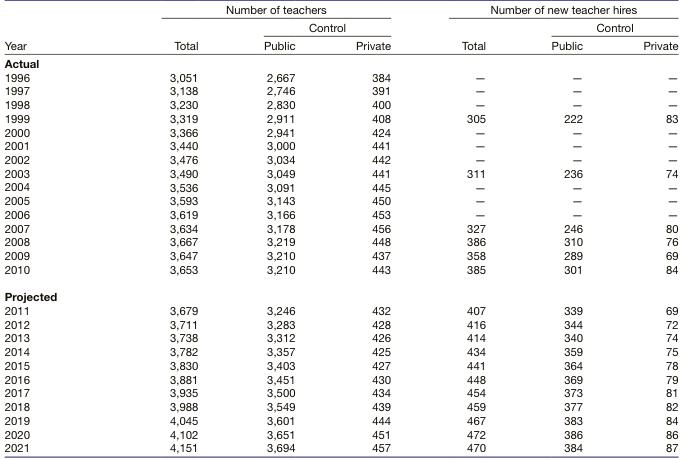table: (3, 3, 677, 453)
table column: (98, 3, 230, 453), (324, 3, 425, 453), (3, 3, 98, 453), (517, 3, 612, 453), (230, 3, 324, 453), (425, 3, 517, 453), (612, 3, 677, 453)
table column header: (3, 3, 677, 54)
table projected row header: (3, 283, 677, 303), (3, 54, 677, 70)
table row: (3, 262, 677, 283), (3, 283, 677, 303), (3, 18, 677, 36), (3, 36, 677, 54), (3, 54, 677, 70), (3, 3, 677, 18), (3, 70, 677, 84), (3, 97, 677, 111), (3, 111, 677, 125), (3, 125, 677, 139), (3, 152, 677, 166), (3, 166, 677, 180), (3, 180, 677, 194), (3, 207, 677, 221), (3, 221, 677, 235), (3, 248, 677, 262), (3, 303, 677, 317), (3, 317, 677, 331), (3, 344, 677, 358), (3, 358, 677, 372), (3, 372, 677, 386), (3, 399, 677, 413), (3, 413, 677, 427), (3, 427, 677, 441), (3, 84, 677, 97), (3, 139, 677, 152), (3, 194, 677, 207), (3, 235, 677, 248), (3, 331, 677, 344), (3, 386, 677, 399), (3, 441, 677, 453)
table spanning cell: (98, 3, 425, 18), (3, 3, 98, 54), (98, 18, 230, 54), (425, 3, 677, 18), (230, 18, 425, 36), (425, 18, 517, 54), (517, 18, 677, 36)
